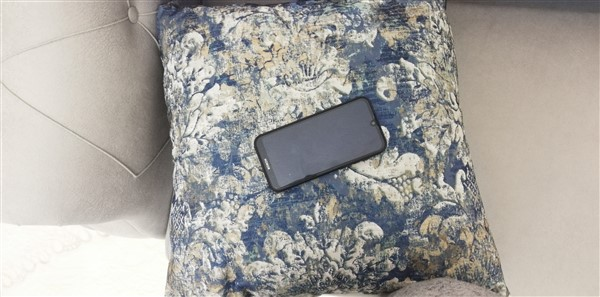telefon: (253, 95, 388, 197)
